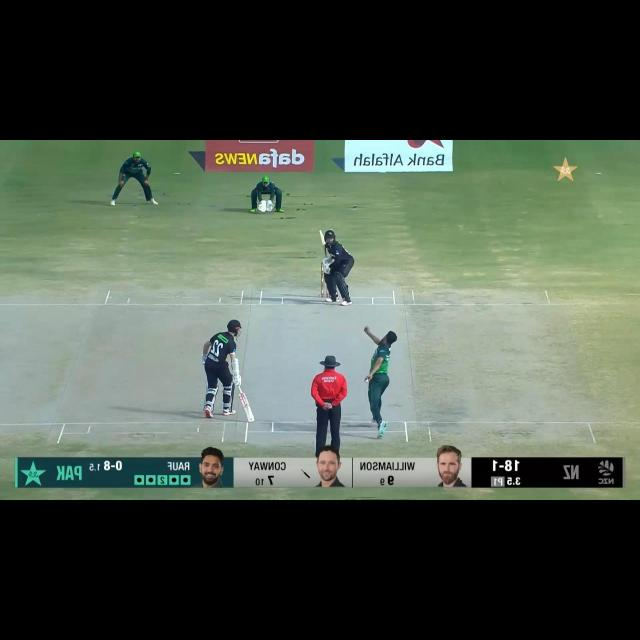bat: (239, 390, 255, 423), (319, 228, 326, 250)
toe: (247, 412, 255, 423), (318, 228, 323, 238)
